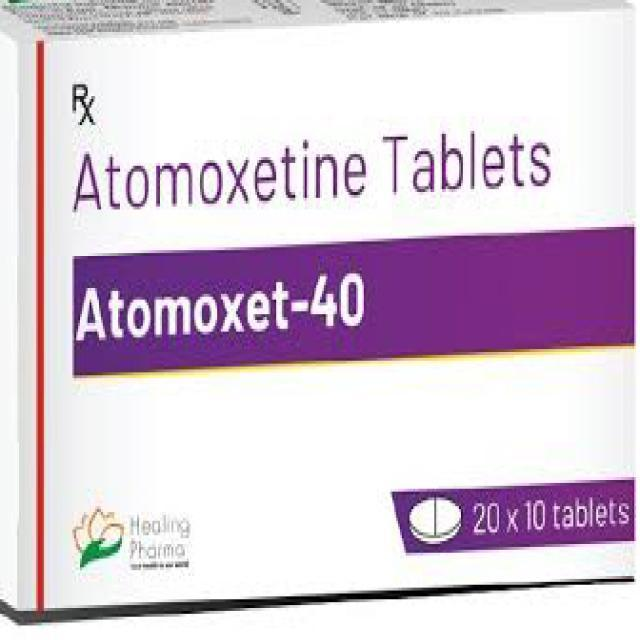drug-name: (74, 269, 370, 343)
